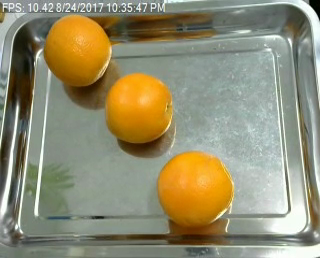Orange: (155, 150, 235, 227), (105, 74, 172, 144), (45, 14, 111, 85)
